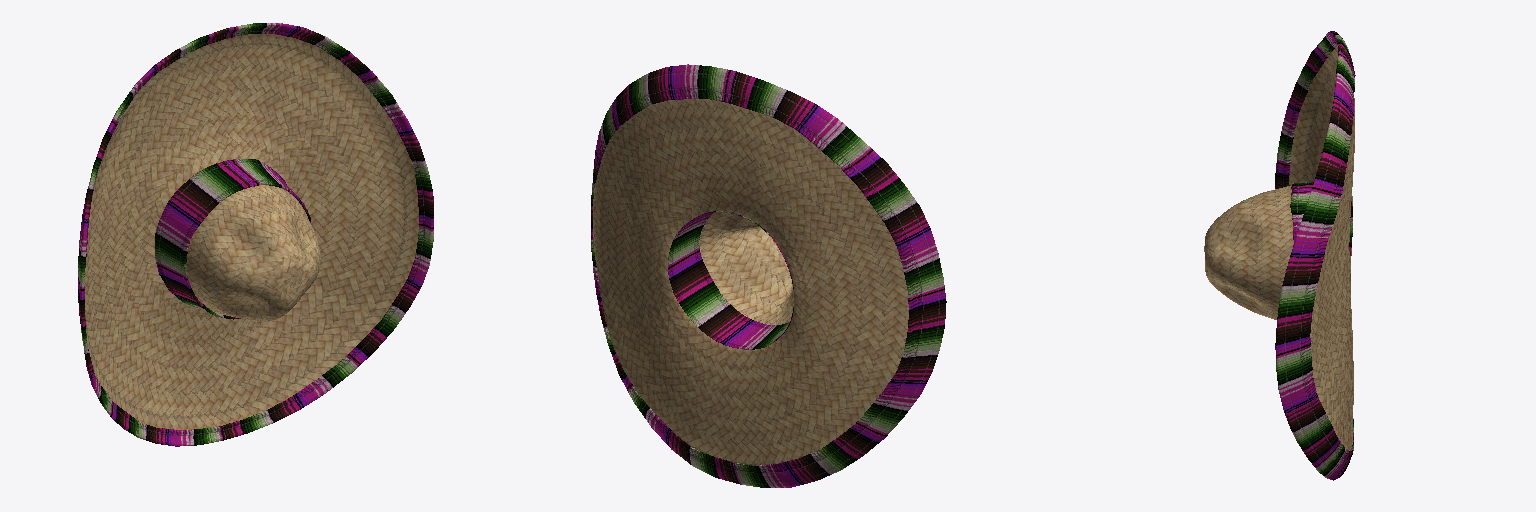
3 views of the same model, side by side, from view 1: azimuth 30°, elevation 25°; view 2: azimuth 150°, elevation 25°; view 3: azimuth 270°, elevation 25° (orthographic).
Visible parts, largest first — view 1: Brim_Outside_pivot, Fabric_pivot, Crown_Outside_pivot; view 2: Brim_Inside_pivot, Fabric_pivot, Crown_Inside_pivot; view 3: Fabric_pivot, Crown_Outside_pivot, Brim_Inside_pivot, Brim_Outside_pivot.
Part boxes in pixels (left/top/right/bottom): Brim_Outside_pivot: left=85, top=34, right=418, bottom=429; Fabric_pivot: left=78, top=23, right=433, bottom=446; Crown_Outside_pivot: left=186, top=185, right=320, bottom=320; Brim_Inside_pivot: left=593, top=99, right=908, bottom=465; Fabric_pivot: left=591, top=64, right=946, bottom=487; Crown_Inside_pivot: left=699, top=212, right=793, bottom=324; Fabric_pivot: left=1275, top=31, right=1355, bottom=480; Crown_Outside_pivot: left=1204, top=186, right=1293, bottom=319; Brim_Inside_pivot: left=1310, top=98, right=1354, bottom=450; Brim_Outside_pivot: left=1289, top=45, right=1337, bottom=185.
Bounding box in the file's own units: 47.04 × 52.35 × 17.41.
Materials: 1 (1 with a texture image).